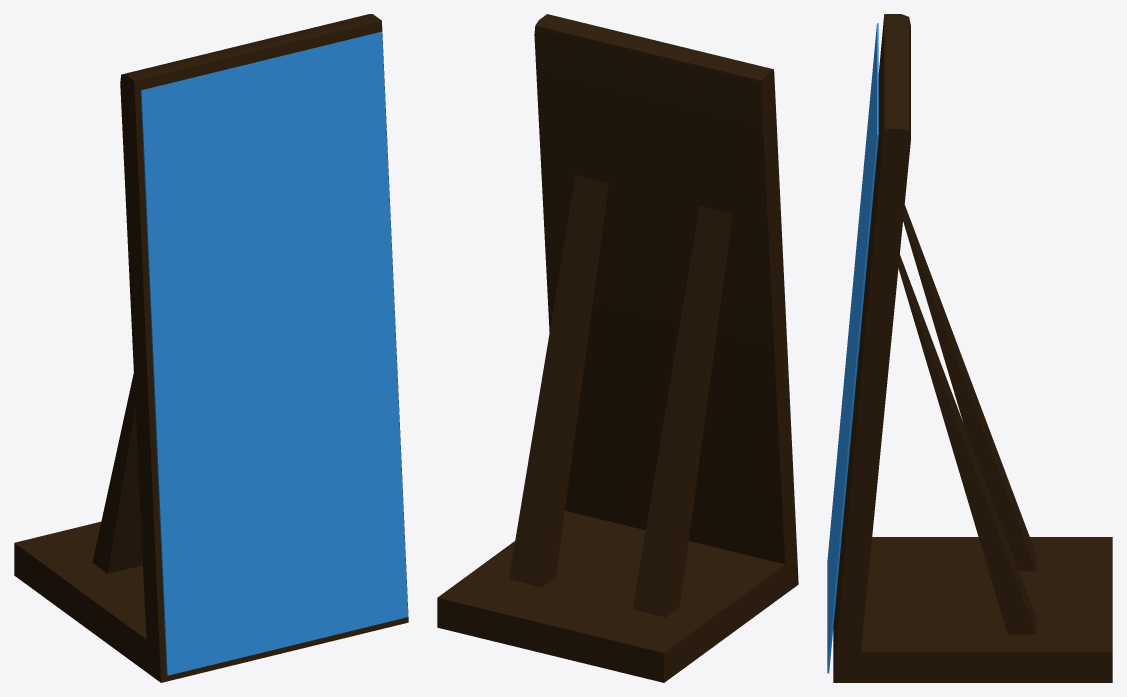
File: Espejo.fbx
3 renders of one model, left to right at view 1: azimuth 30°, elevation 25°; view 2: azimuth 150°, elevation 25°; view 3: azimuth 270°, elevation 25°, orthographic. The views are drawn at different scales.
Parts seen in each view (by area): view 1: Espejo; view 2: Espejo; view 3: Espejo.
Part boxes in pixels (<box>): Espejo: <box>14,14,408,682</box>; Espejo: <box>437,14,798,682</box>; Espejo: <box>827,14,1112,682</box>.
Bounding box in the file's own units: 34.39 × 77.27 × 36.06.
